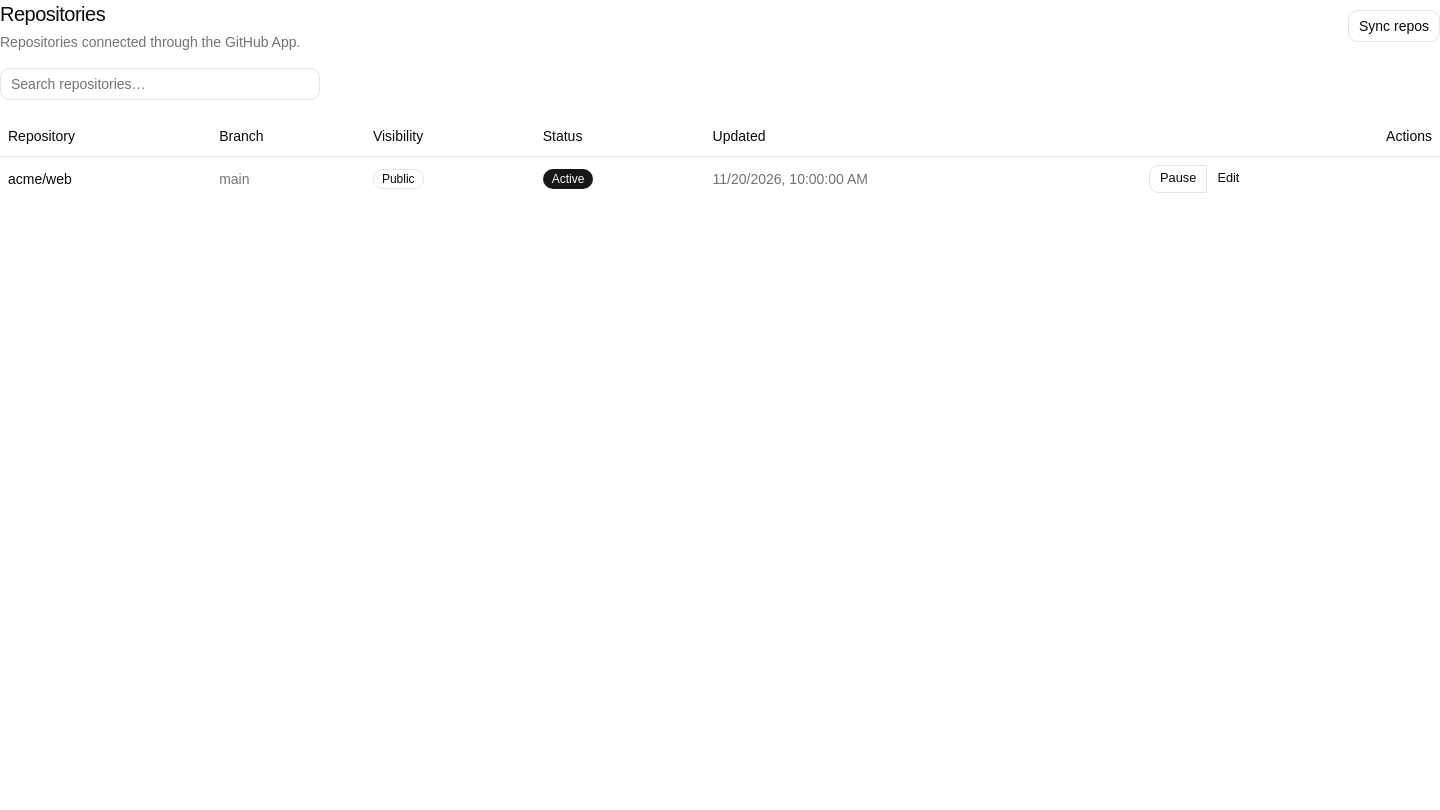
repositories › keeps the status badge in sync with the active toggle
The image size is (1440, 810).
Click the button with aria-label "Edit acme/web": point(1229, 178) top-left (1207, 164), bottom-right (1250, 192)
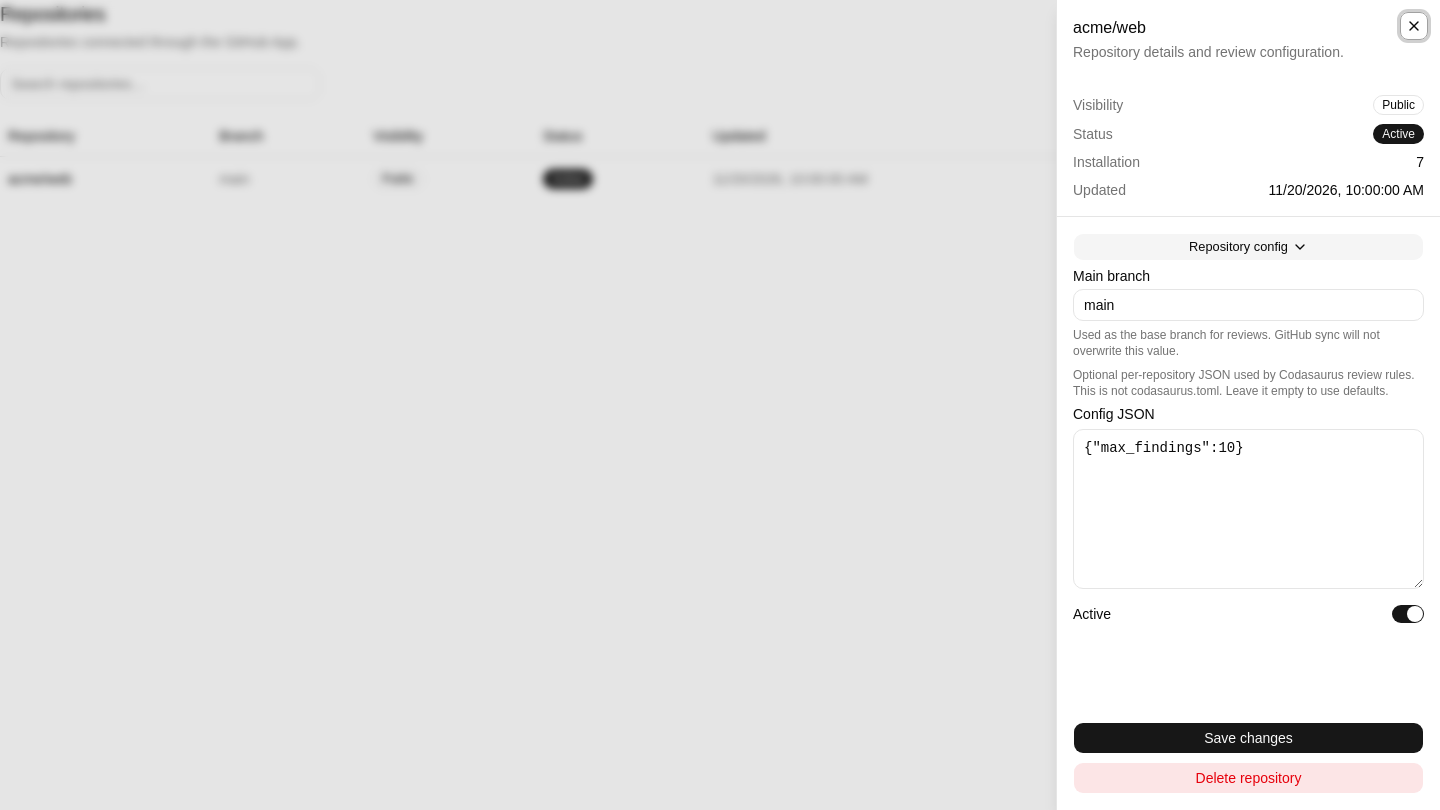
Expected: the text "Paused" is not shown
Click the switch: point(1408, 614) top-left (1392, 605), bottom-right (1424, 623)
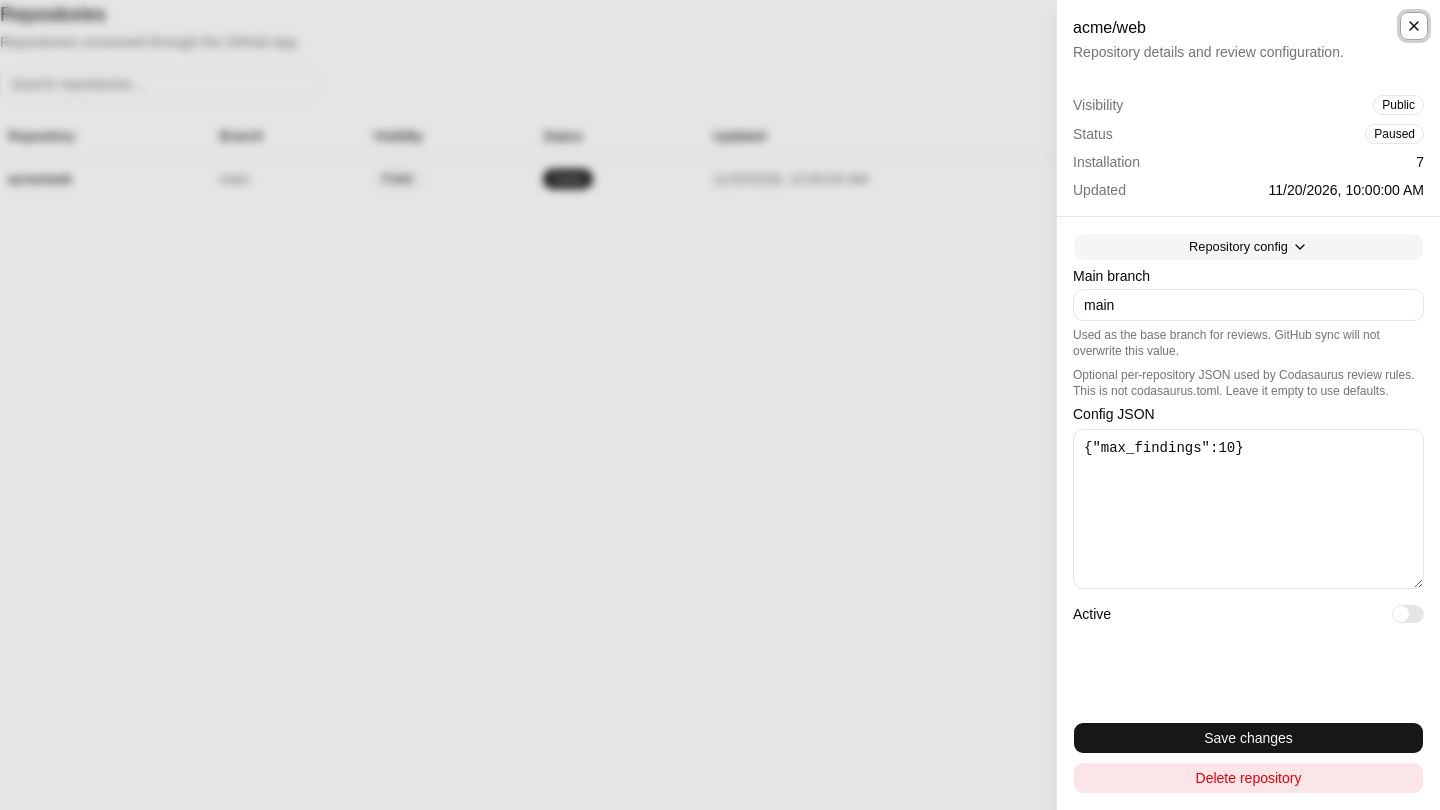
Now the icon "Paused" is shown, box top-left (1365, 124), bottom-right (1424, 144)
